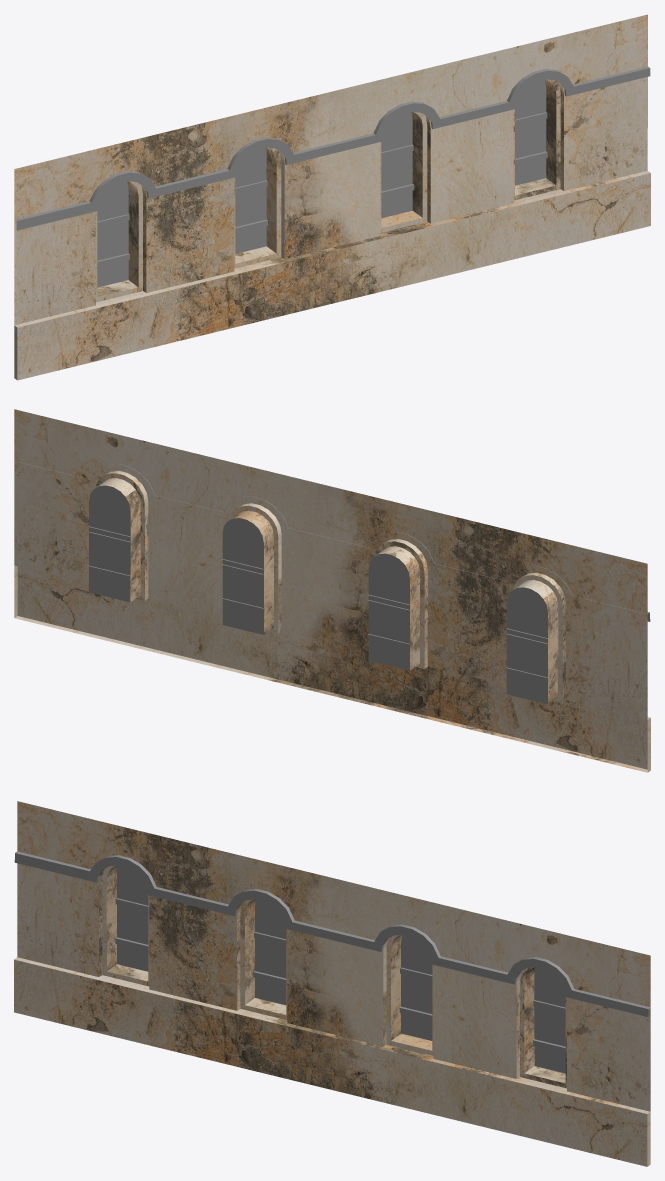
The model's file is Batiment_2_4_fenetre.FBX.
3 views of the same model, one above another, from view 1: azimuth 30°, elevation 25°; view 2: azimuth 150°, elevation 25°; view 3: azimuth 330°, elevation 25° (orthographic).
Parts seen in each view (by area): view 1: Object015; view 2: Object015; view 3: Object015.
Boxes of the visible parts, <box> form: Object015: <box>14,14,650,380</box>; Object015: <box>14,409,650,772</box>; Object015: <box>14,801,650,1166</box>.
Bounding box in the file's own units: 530 × 25.01 × 167.
3 materials, 1 textured.
